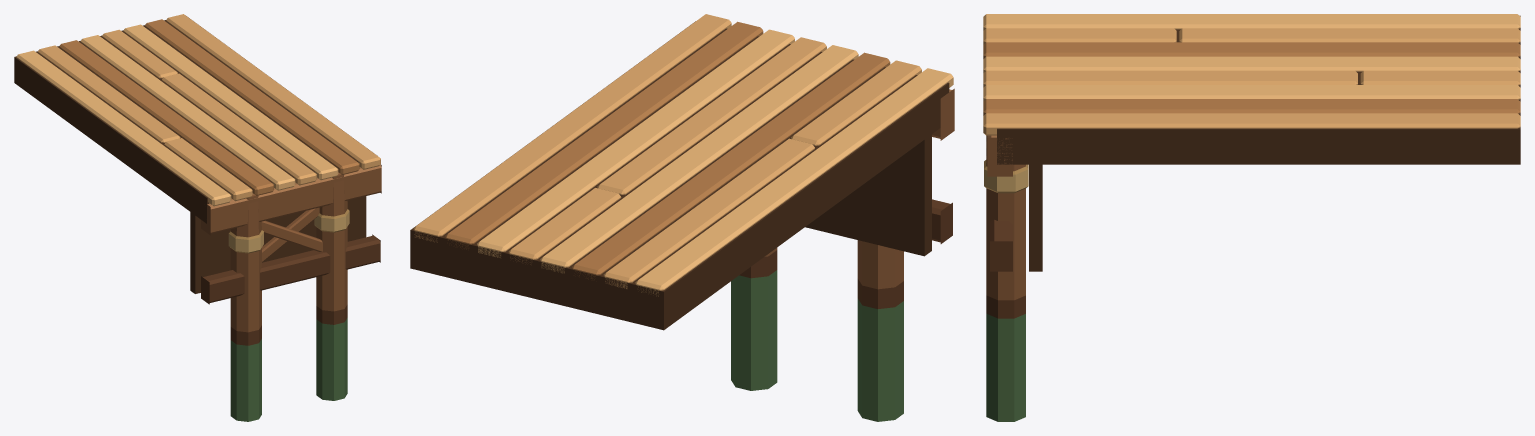
The model's file is dock_2m.glb.
3 views of the same model, side by side, from view 1: azimuth 30°, elevation 25°; view 2: azimuth 150°, elevation 25°; view 3: azimuth 270°, elevation 25° (orthographic). The views are drawn at different scales.
Parts seen in each view (by area): view 1: dock_2m; view 2: dock_2m; view 3: dock_2m.
Part boxes in pixels (x1,y1,x2,y2): dock_2m: [14, 14, 381, 421]; dock_2m: [410, 14, 954, 421]; dock_2m: [983, 14, 1520, 421].
Bounding box in the file's own units: 2 × 2.6 × 4.
1 material, 1 textured.
